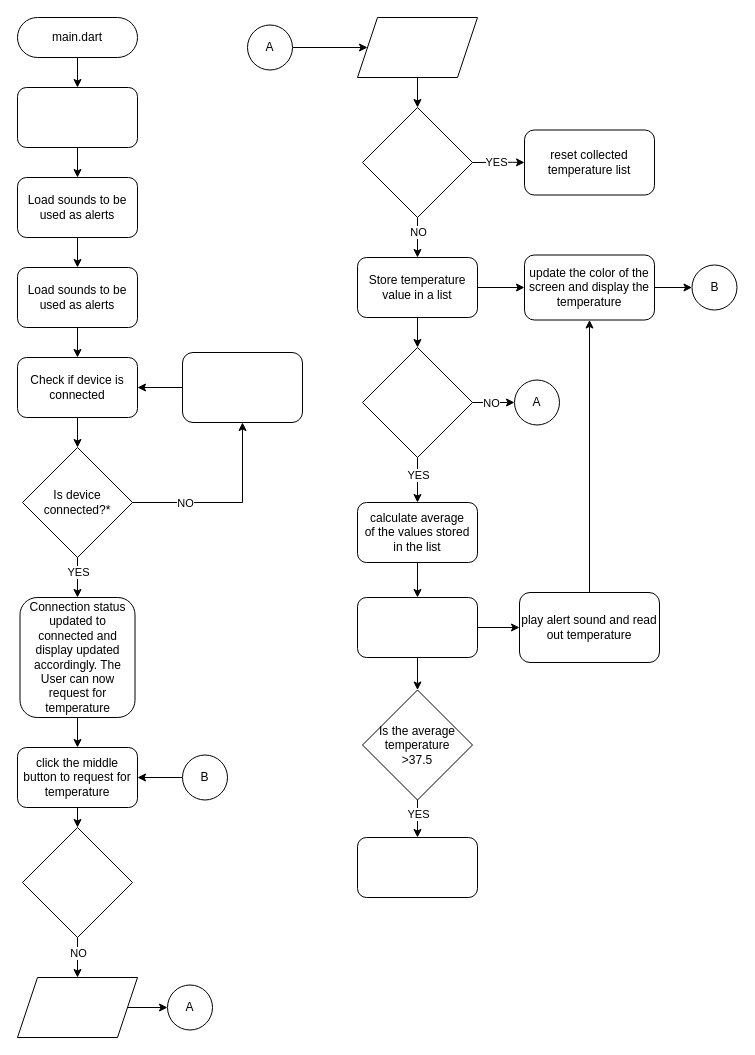
Some shapes in this 755 by 1055 pixel diagram are drawn without their labels. Here are the shapes that lost their labels. From the top down, the centre of each, then its label:
At pixel 417 47: "Receive input from Arduino".
At pixel 77 117: "Initialize all variables".
At pixel 417 162: "Is the character 0?".
At pixel 242 387: "Connection status updated to disconnected and display updated accordingly".
At pixel 417 402: "Is the length of the list >3".
At pixel 417 627: "alert system that there is no more pending request".
At pixel 77 882: "Is there already a pending request?".
At pixel 417 867: "enable button to data submission page (qrSubmit.dart)".
At pixel 77 1007: "send G to Arduino".
